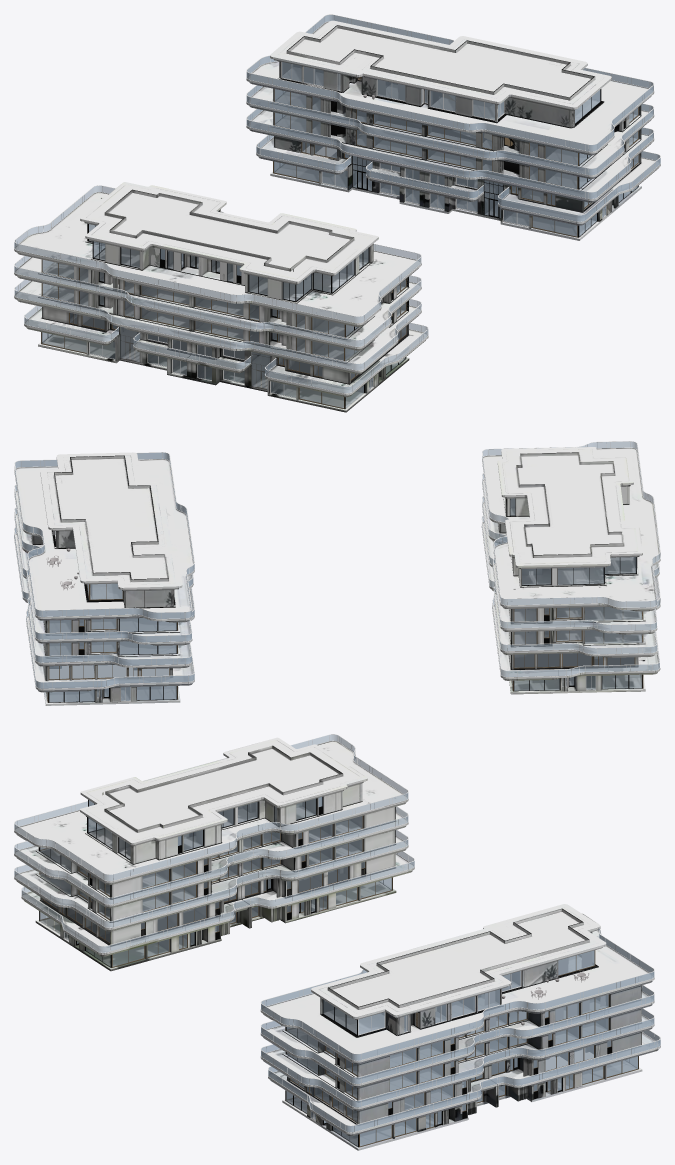
Rendered from Elie Saab_build_1.glb.
The picture shows the model from 3 angles, top to bottom: view 1: azimuth 30°, elevation 25°; view 2: azimuth 150°, elevation 25°; view 3: azimuth 270°, elevation 25°; orthographic projection. The views are drawn at different scales.
Visible parts, largest first — view 1: Elie Saab_build.001; view 2: Elie Saab_build.001; view 3: Elie Saab_build.001.
Boxes of the visible parts, box(x1,y1,x2,y2) form: Elie Saab_build.001: box(14, 14, 660, 412); Elie Saab_build.001: box(14, 441, 660, 705); Elie Saab_build.001: box(14, 734, 660, 1150).
Bounding box in the file's own units: 101 × 19.3 × 87.99.
Materials: 23 (17 with a texture image).
